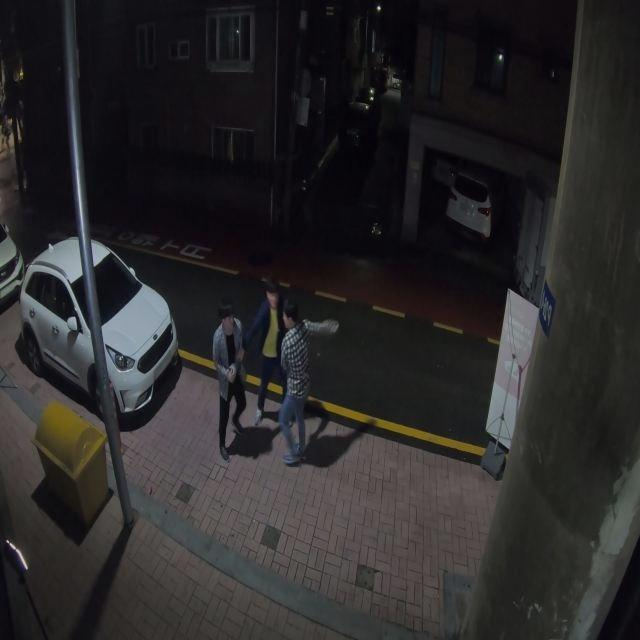fight: (209, 281, 325, 467)
